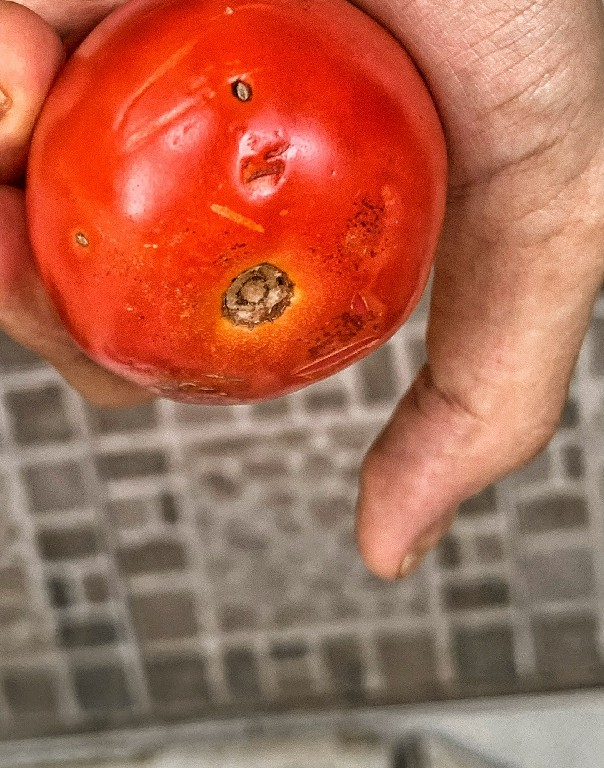NG: (27, 2, 441, 395)
